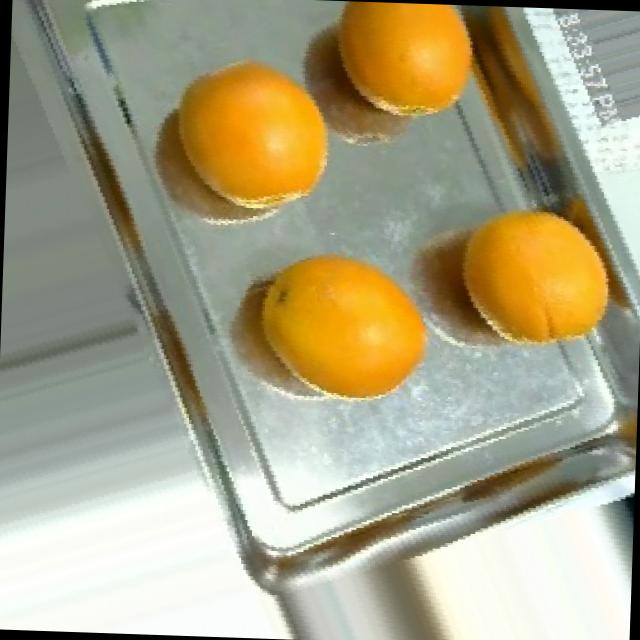Fruit: (218, 224, 458, 428)
